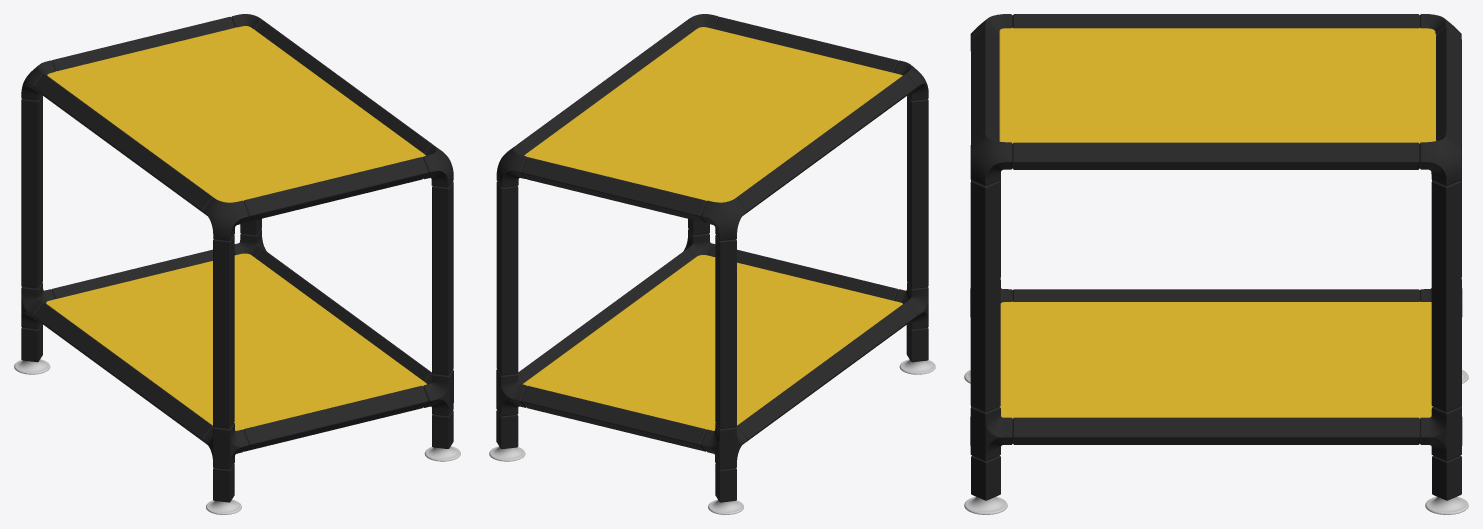
The picture shows the model from 3 angles, left to right: view 1: azimuth 30°, elevation 25°; view 2: azimuth 150°, elevation 25°; view 3: azimuth 270°, elevation 25°; orthographic projection. The views are drawn at different scales.
Parts seen in each view (by area): view 1: 229x374x229; view 2: 229x374x229; view 3: 229x374x229.
Boxes of the visible parts, x1,y1,x2,y2 form: 229x374x229: [14, 14, 460, 514]; 229x374x229: [489, 14, 935, 514]; 229x374x229: [964, 14, 1468, 514].
Size of the model in its own units: 0.3189 by 0.3683 by 0.4632.
